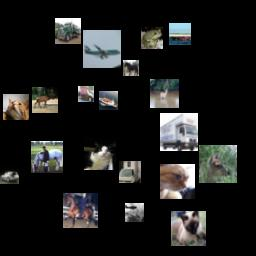airplane: (83, 30, 121, 68), (125, 203, 144, 222)
automobile: (0, 165, 19, 184), (78, 86, 94, 102)
cat: (160, 164, 195, 199), (171, 211, 206, 246), (84, 138, 116, 170), (3, 94, 29, 120)
deer: (199, 145, 237, 183), (150, 79, 179, 108), (32, 87, 58, 113)
frog: (141, 27, 163, 49)
ship: (169, 23, 191, 45), (99, 91, 118, 110)
truck: (160, 113, 198, 151), (55, 18, 81, 44), (119, 161, 141, 183)
